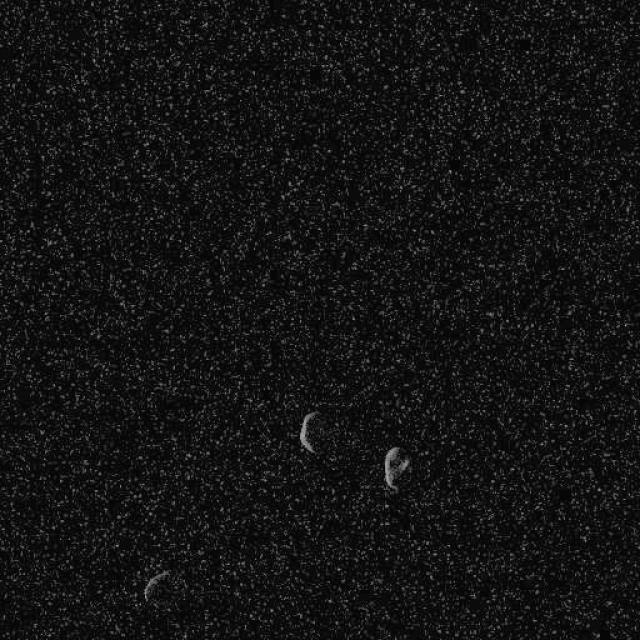D2: (382, 445, 412, 491), (298, 409, 328, 455), (142, 568, 172, 604)
